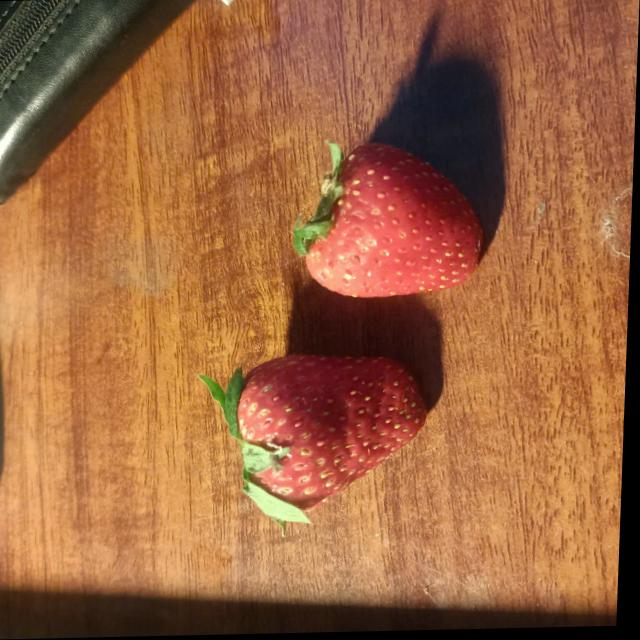DauTay: (211, 327, 442, 533), (278, 128, 493, 300)
